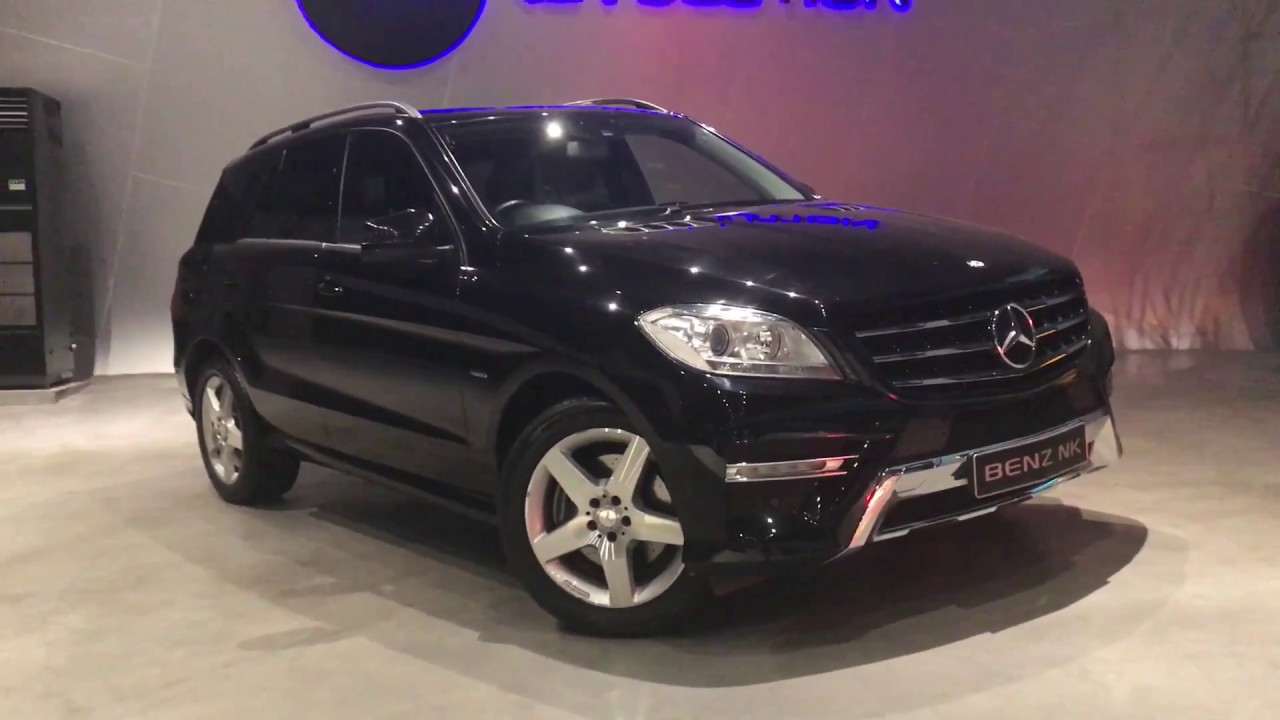pickup: (170, 91, 1131, 638)
